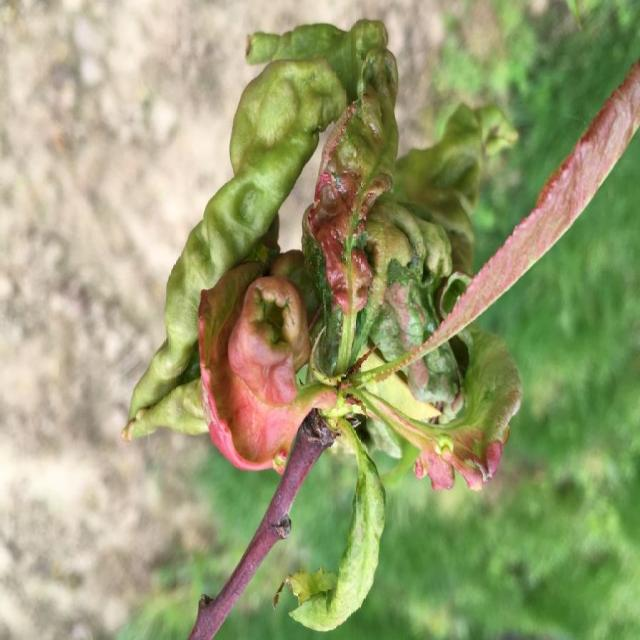peach_leaf_curl: (138, 27, 480, 611)
